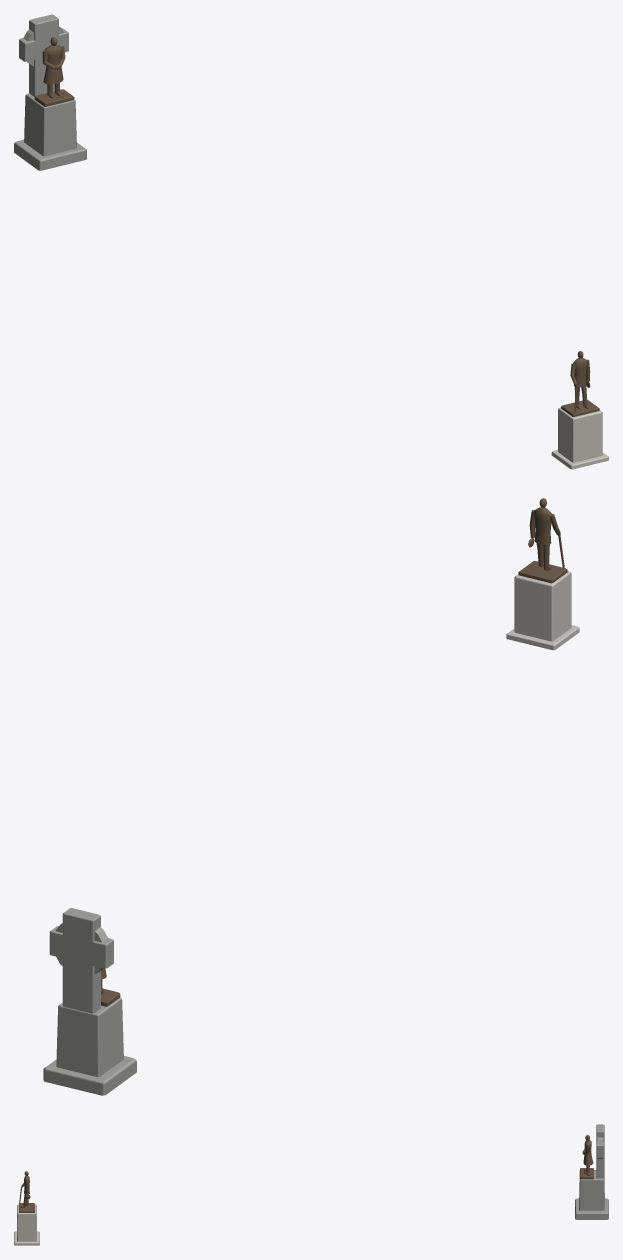
File: nyc-duffy-square-statues.glb
3 renders of one model, top to bottom at view 1: azimuth 30°, elevation 25°; view 2: azimuth 150°, elevation 25°; view 3: azimuth 270°, elevation 25°, orthographic. The views are drawn at different scales.
Parts seen in each view (by area): view 1: Father Duffy Square statues; view 2: Father Duffy Square statues; view 3: Father Duffy Square statues.
Boxes of the visible parts, left/top/right/bottom form: Father Duffy Square statues: left=14, top=14, right=608, bottom=469; Father Duffy Square statues: left=43, top=498, right=579, bottom=1095; Father Duffy Square statues: left=14, top=1124, right=608, bottom=1245.
Bounding box in the file's own units: 5.83 × 5.6 × 35.8.
